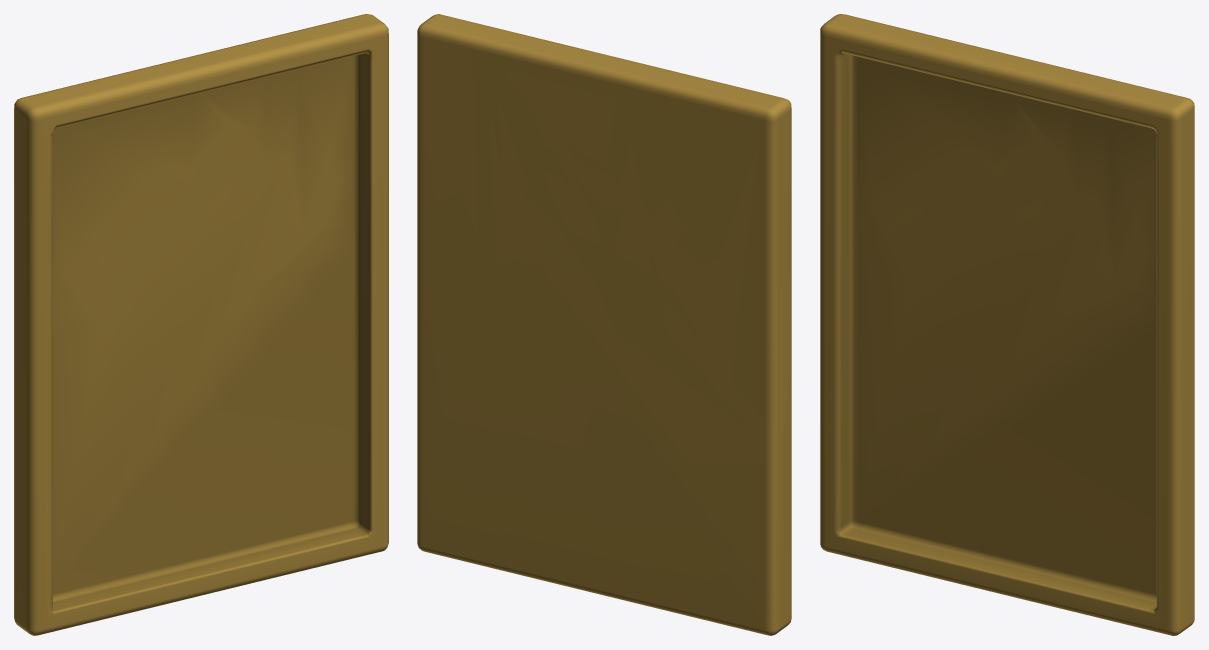
Rendered from lumiere-lightbox.glb.
The picture shows the model from 3 angles, left to right: view 1: azimuth 30°, elevation 25°; view 2: azimuth 150°, elevation 25°; view 3: azimuth 330°, elevation 25°; orthographic projection.
Visible parts, largest first — view 1: lumiere-lightbox_LOD0; view 2: lumiere-lightbox_LOD0; view 3: lumiere-lightbox_LOD0.
Part boxes in pixels (left/top/right/bottom): lumiere-lightbox_LOD0: left=14, top=14, right=388, bottom=635; lumiere-lightbox_LOD0: left=417, top=14, right=791, bottom=635; lumiere-lightbox_LOD0: left=820, top=14, right=1194, bottom=635.
Size of what is drawn, in the model's own units: 1 by 1.4 by 0.1.
